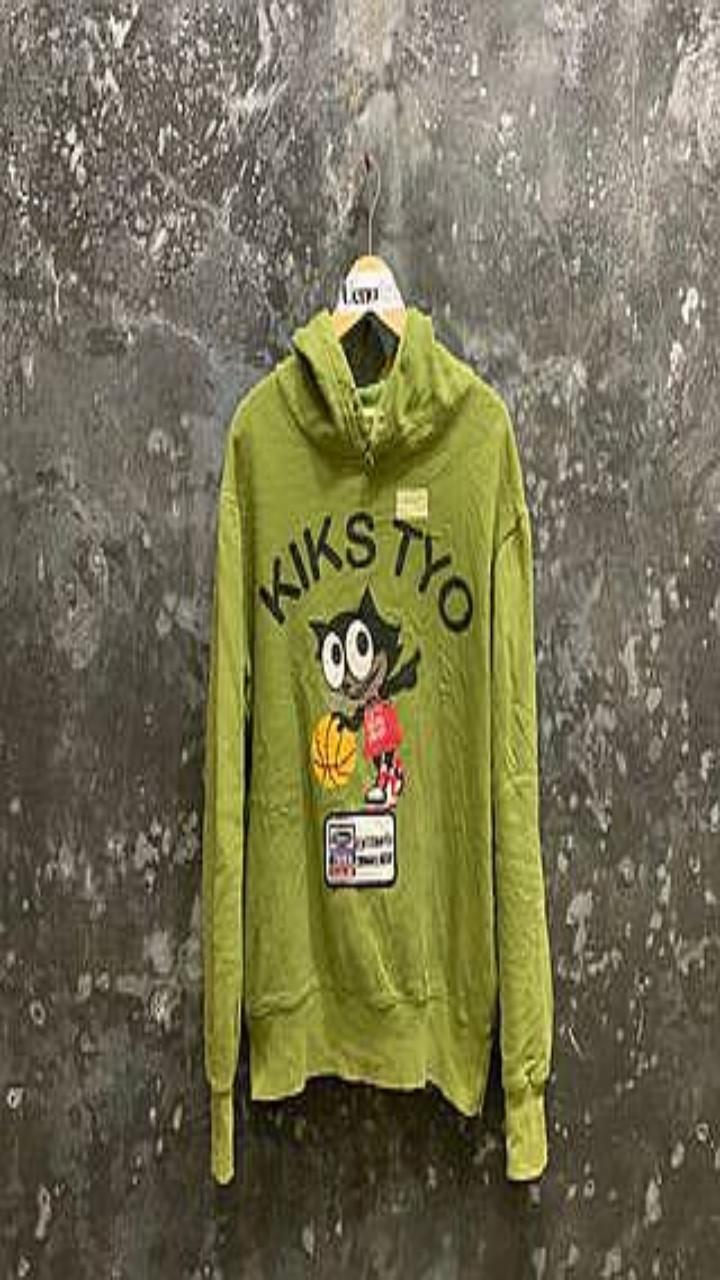Hoodie: (202, 306, 552, 1181)
